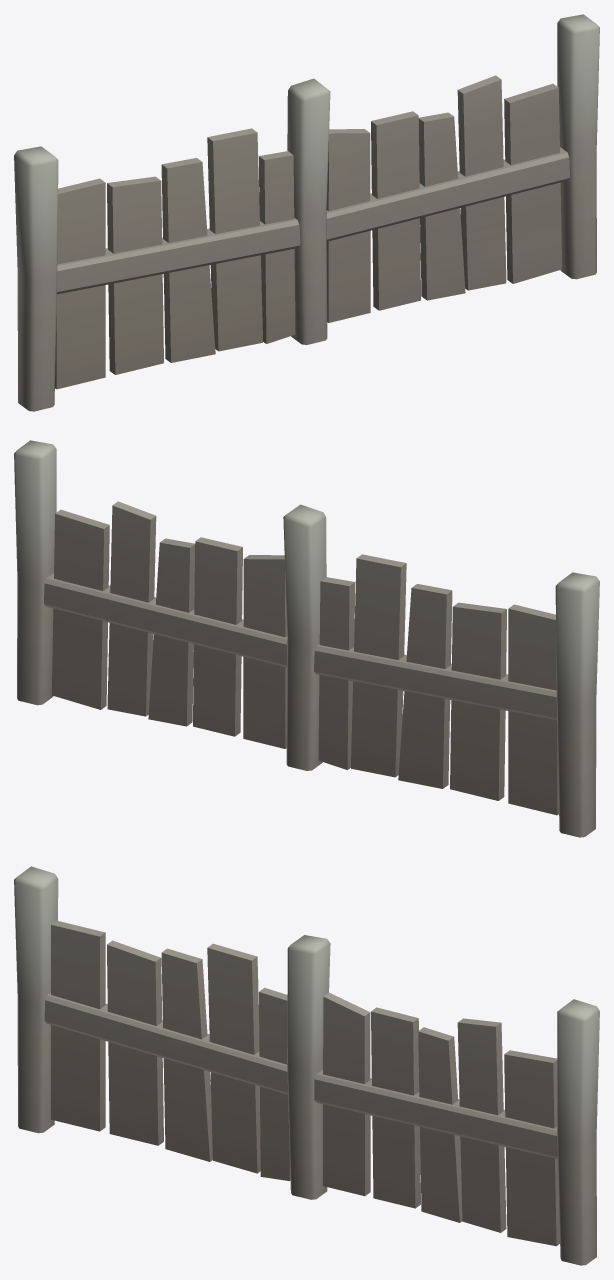
File: WallFence_1_1_B.fbx
The picture shows the model from 3 angles, top to bottom: view 1: azimuth 30°, elevation 25°; view 2: azimuth 150°, elevation 25°; view 3: azimuth 330°, elevation 25°; orthographic projection.
Parts seen in each view (by area): view 1: WallFence_1_1_B; view 2: WallFence_1_1_B; view 3: WallFence_1_1_B.
Boxes of the visible parts, x1,y1,x2,y2 form: WallFence_1_1_B: [14, 14, 599, 411]; WallFence_1_1_B: [14, 440, 599, 837]; WallFence_1_1_B: [14, 866, 599, 1265].
Bounding box in the file's own units: 210 × 88.03 × 11.27.
